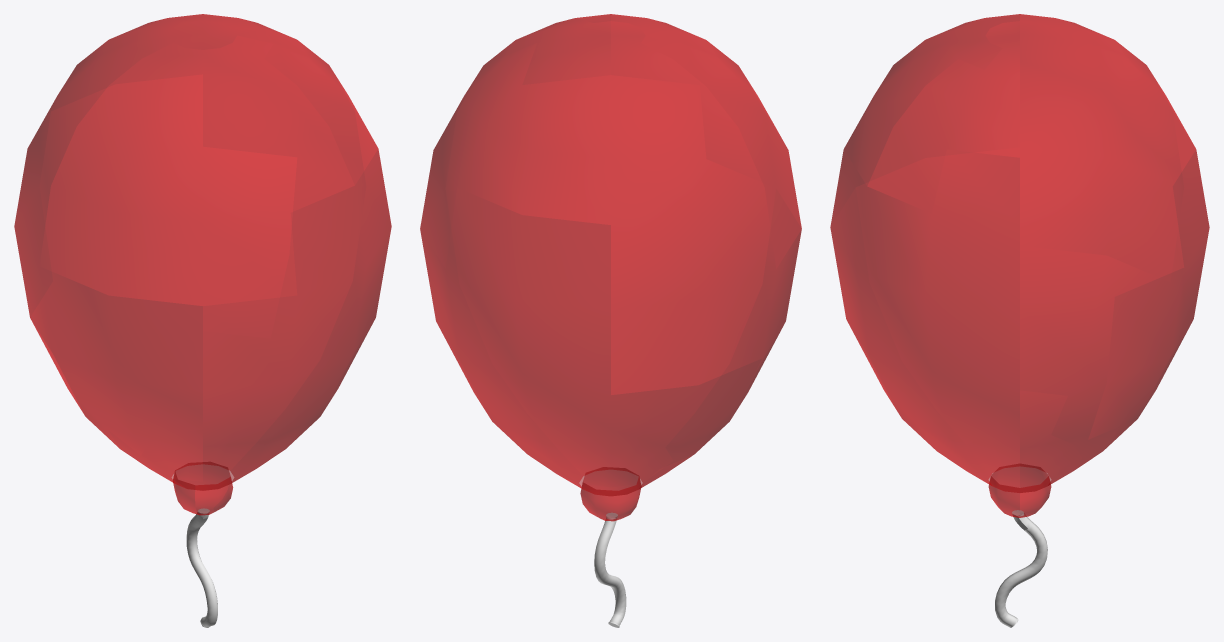
Rendered from wlovo.fbx.
3 views of the same model, side by side, from view 1: azimuth 30°, elevation 25°; view 2: azimuth 150°, elevation 25°; view 3: azimuth 270°, elevation 25° (orthographic).
Visible parts, largest first — view 1: globo.001, globo.005, globo.003, globo.002, globo.004; view 2: globo.002, globo.001, globo.005, globo.003, globo.004; view 3: globo.001, globo.002, globo.005, globo.003, globo.004.
Part boxes in pixels (x1=…): globo.001: x1=14, y1=14, x2=378, y2=627; globo.005: x1=30, y1=74, x2=296, y2=454; globo.003: x1=39, y1=35, x2=354, y2=305; globo.002: x1=172, y1=75, x2=391, y2=518; globo.004: x1=186, y1=512, x2=217, y2=627; globo.002: x1=446, y1=43, x2=775, y2=514; globo.001: x1=420, y1=14, x2=801, y2=627; globo.005: x1=420, y1=188, x2=761, y2=487; globo.003: x1=576, y1=14, x2=801, y2=268; globo.004: x1=594, y1=516, x2=626, y2=626; globo.001: x1=856, y1=14, x2=1195, y2=627; globo.002: x1=830, y1=149, x2=1027, y2=530; globo.005: x1=1020, y1=113, x2=1209, y2=469; globo.003: x1=831, y1=14, x2=1019, y2=225; globo.004: x1=995, y1=513, x2=1047, y2=627.
Bounding box in the file's own units: 310 × 534 × 310.
